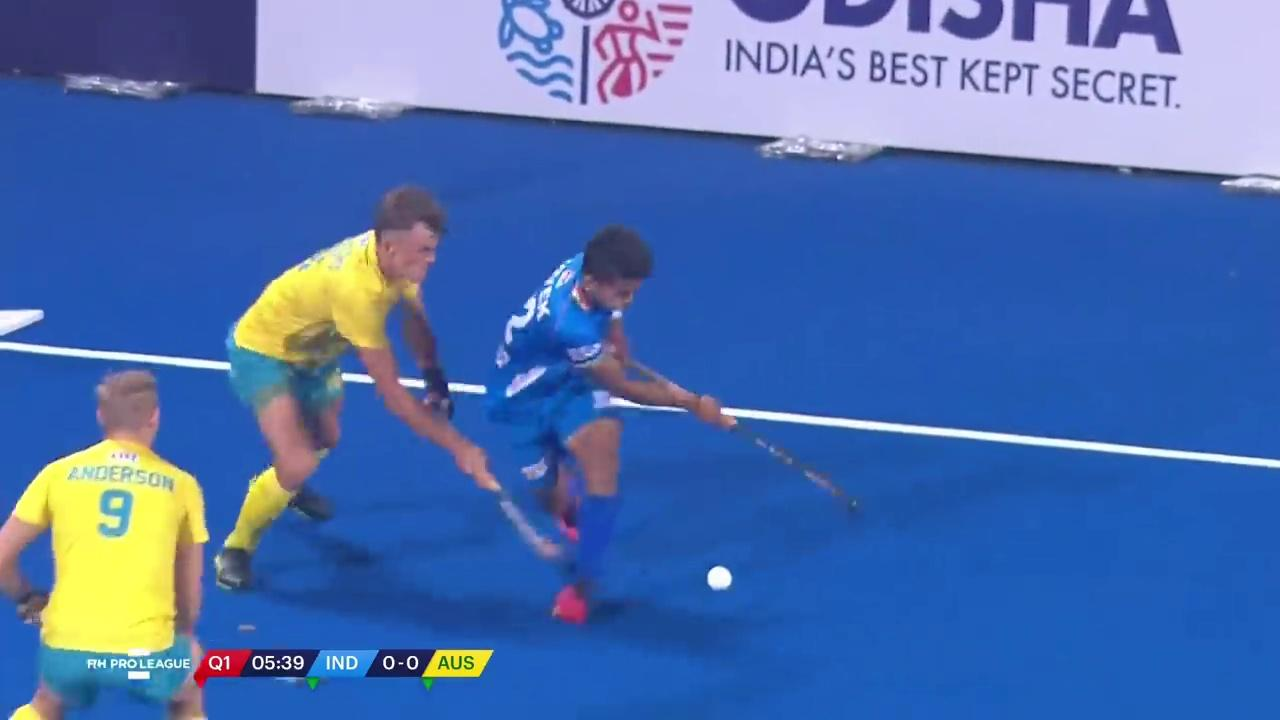ball: (691, 555, 755, 605)
